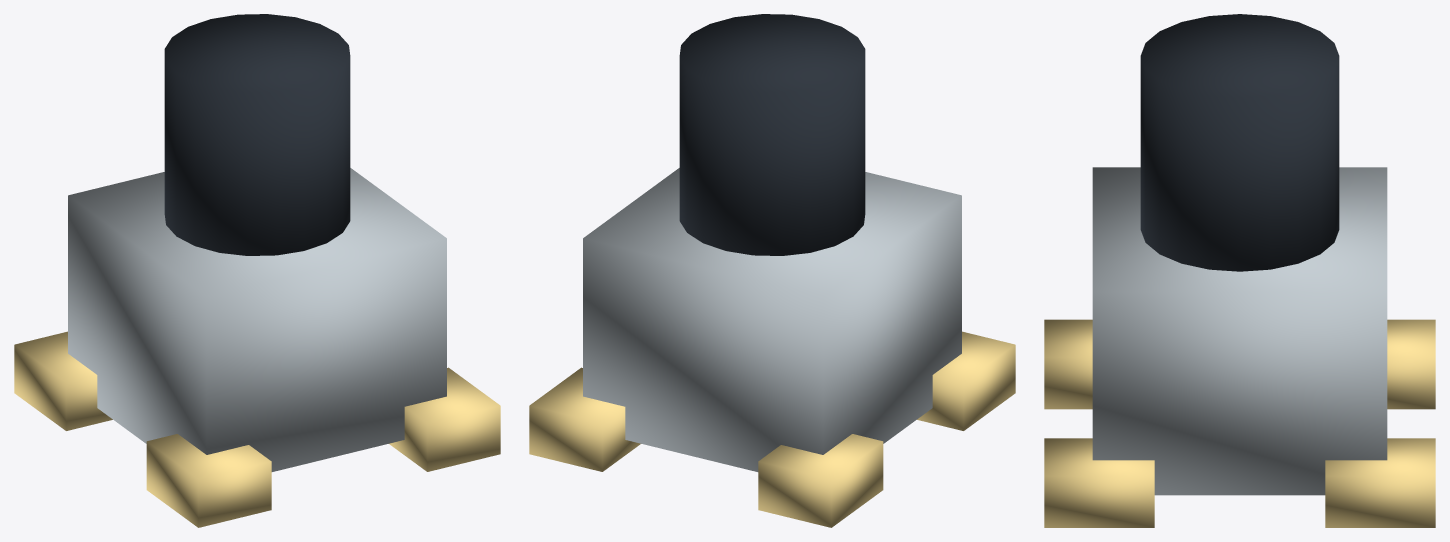
File: 40_L94_SW1_TactileReset.glb
3 renders of one model, left to right at view 1: azimuth 30°, elevation 25°; view 2: azimuth 150°, elevation 25°; view 3: azimuth 270°, elevation 25°, orthographic. The views are drawn at different scales.
Parts seen in each view (by area): view 1: L94_TactileReset_Part_0000, L94_TactileReset_Part_0001, L94_TactileReset_Part_0002; view 2: L94_TactileReset_Part_0000, L94_TactileReset_Part_0001, L94_TactileReset_Part_0002; view 3: L94_TactileReset_Part_0000, L94_TactileReset_Part_0001, L94_TactileReset_Part_0002.
Part boxes in pixels (x1,y1,x2,y2): L94_TactileReset_Part_0000: [68, 168, 446, 471]; L94_TactileReset_Part_0001: [164, 14, 350, 255]; L94_TactileReset_Part_0002: [14, 331, 500, 527]; L94_TactileReset_Part_0000: [583, 168, 961, 471]; L94_TactileReset_Part_0001: [679, 14, 865, 255]; L94_TactileReset_Part_0002: [529, 331, 1015, 527]; L94_TactileReset_Part_0000: [1092, 167, 1387, 495]; L94_TactileReset_Part_0001: [1140, 14, 1339, 271]; L94_TactileReset_Part_0002: [1044, 319, 1435, 527].
Bounding box in the file's own units: 0.0909 × 0.1065 × 0.0959.
